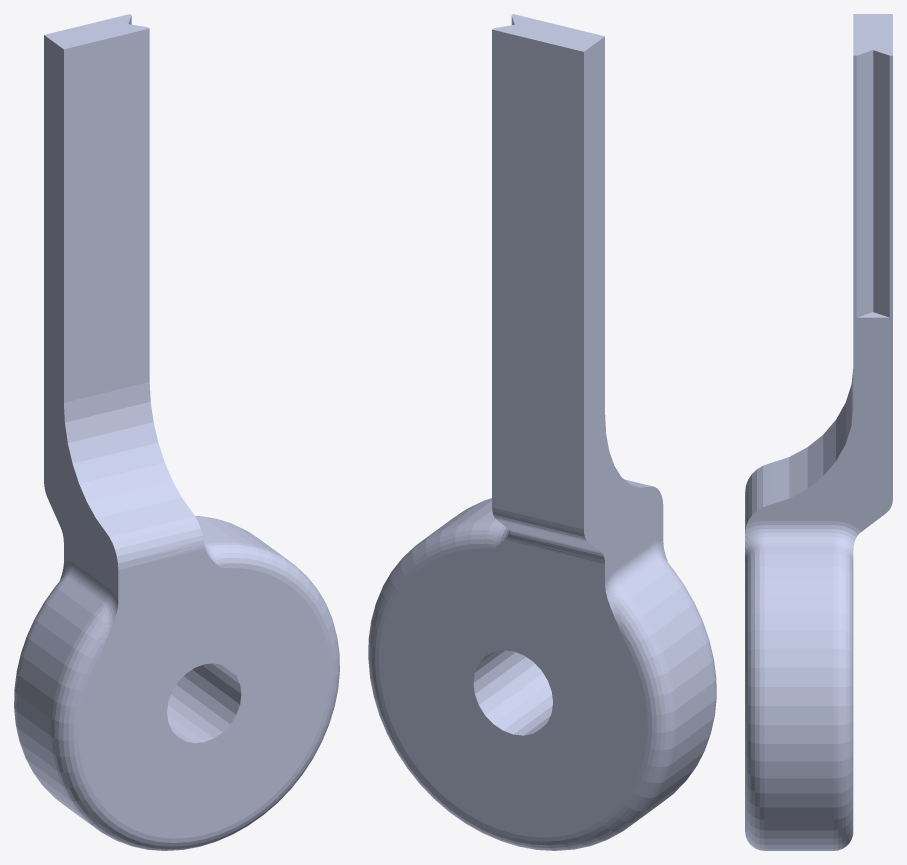
Rendered from tool_wrist_sca_link_2.obj.
The picture shows the model from 3 angles, left to right: view 1: azimuth 30°, elevation 25°; view 2: azimuth 150°, elevation 25°; view 3: azimuth 270°, elevation 25°; orthographic projection. The views are drawn at different scales.
Visible parts, largest first — view 1: ActorShape0_0-Mesh; view 2: ActorShape0_0-Mesh; view 3: ActorShape0_0-Mesh.
Part boxes in pixels (x1,y1,x2,y2): ActorShape0_0-Mesh: (14,14,339,850); ActorShape0_0-Mesh: (368,14,716,850); ActorShape0_0-Mesh: (745,14,892,850).
Bounding box in the file's own units: 0.005 × 0.0131 × 0.00225.
